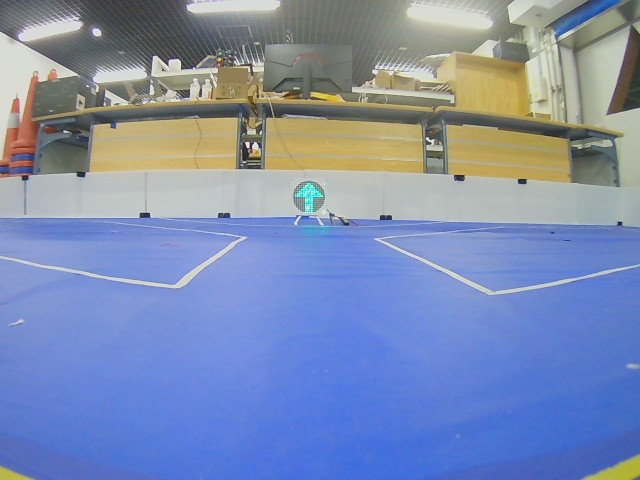straight_green: (293, 180, 325, 215)
